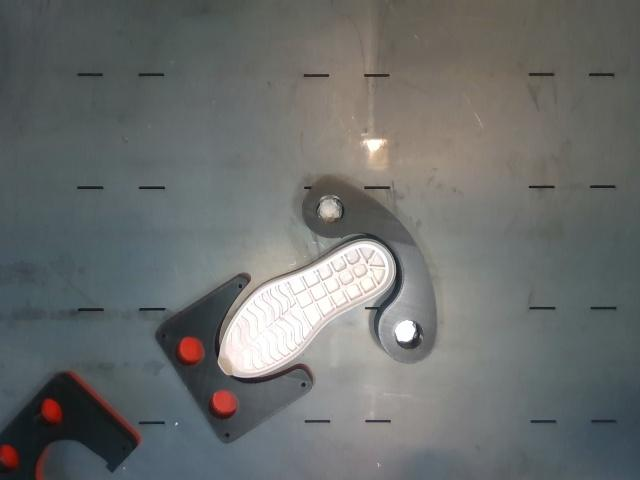shoes: (219, 241, 394, 377)
